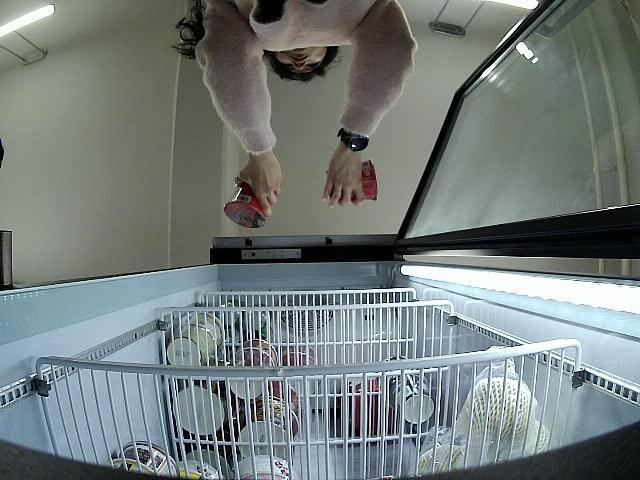02_shinRamen_S: (326, 160, 380, 204), (225, 185, 265, 226)
